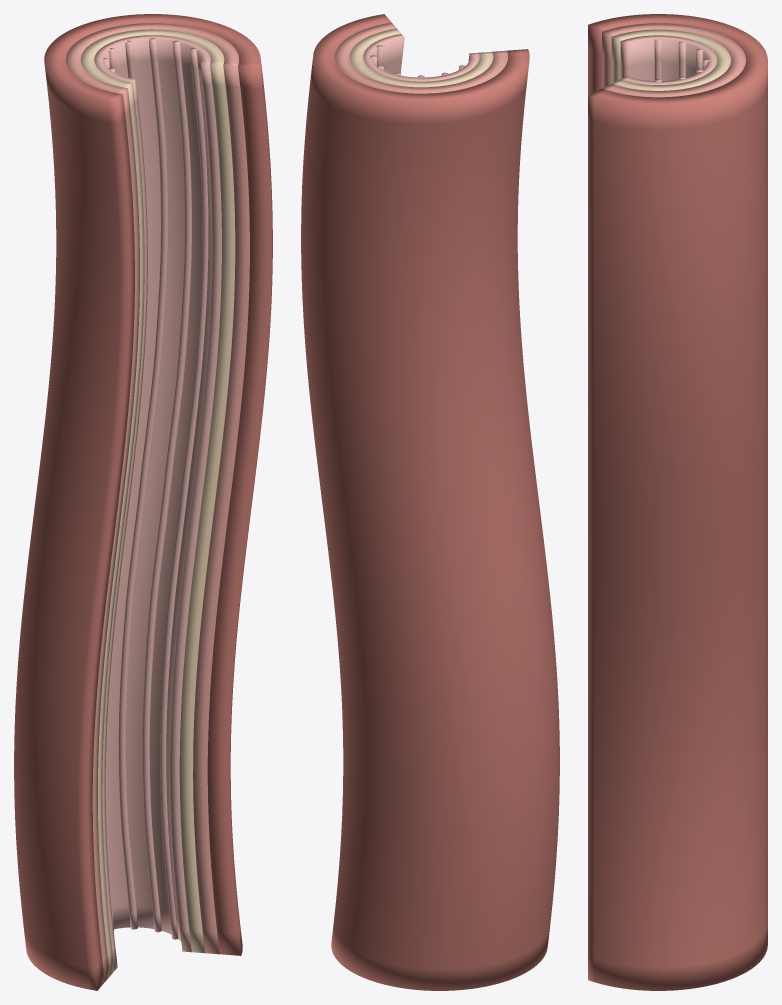
File: esophagus.27a859d0.glb
The picture shows the model from 3 angles, left to right: view 1: azimuth 30°, elevation 25°; view 2: azimuth 150°, elevation 25°; view 3: azimuth 270°, elevation 25°; orthographic projection.
Visible parts, largest first — view 1: Longitudinal muscular layer, Mucosa, Circular muscular layer, Submucosa, Mucosal fold 3, Mucosal fold 2, Mucosal fold 1; view 2: Longitudinal muscular layer, Circular muscular layer, Submucosa, Mucosa; view 3: Longitudinal muscular layer, Mucosa, Circular muscular layer, Submucosa.
Part boxes in pixels (x1=…): Longitudinal muscular layer: x1=14, y1=14, x2=272, y2=990; Mucosa: x1=94, y1=35, x2=221, y2=970; Circular muscular layer: x1=66, y1=23, x2=249, y2=981; Submucosa: x1=80, y1=29, x2=235, y2=975; Mucosal fold 3: x1=118, y1=38, x2=168, y2=929; Mucosal fold 2: x1=142, y1=40, x2=191, y2=932; Mucosal fold 1: x1=160, y1=48, x2=208, y2=939; Longitudinal muscular layer: x1=301, y1=14, x2=559, y2=990; Circular muscular layer: x1=334, y1=22, x2=507, y2=93; Submucosa: x1=349, y1=28, x2=493, y2=87; Mucosa: x1=363, y1=34, x2=479, y2=81; Longitudinal muscular layer: x1=588, y1=14, x2=767, y2=990; Mucosa: x1=620, y1=35, x2=717, y2=84; Circular muscular layer: x1=602, y1=23, x2=745, y2=97; Submucosa: x1=611, y1=29, x2=730, y2=90.
Bounding box in the file's own units: 0.9797 × 3.6 × 0.657.
